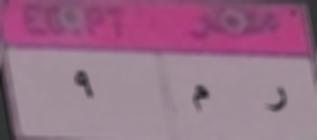9: (72, 65, 97, 105)
meem: (189, 80, 215, 117)
raa: (260, 78, 290, 118)
